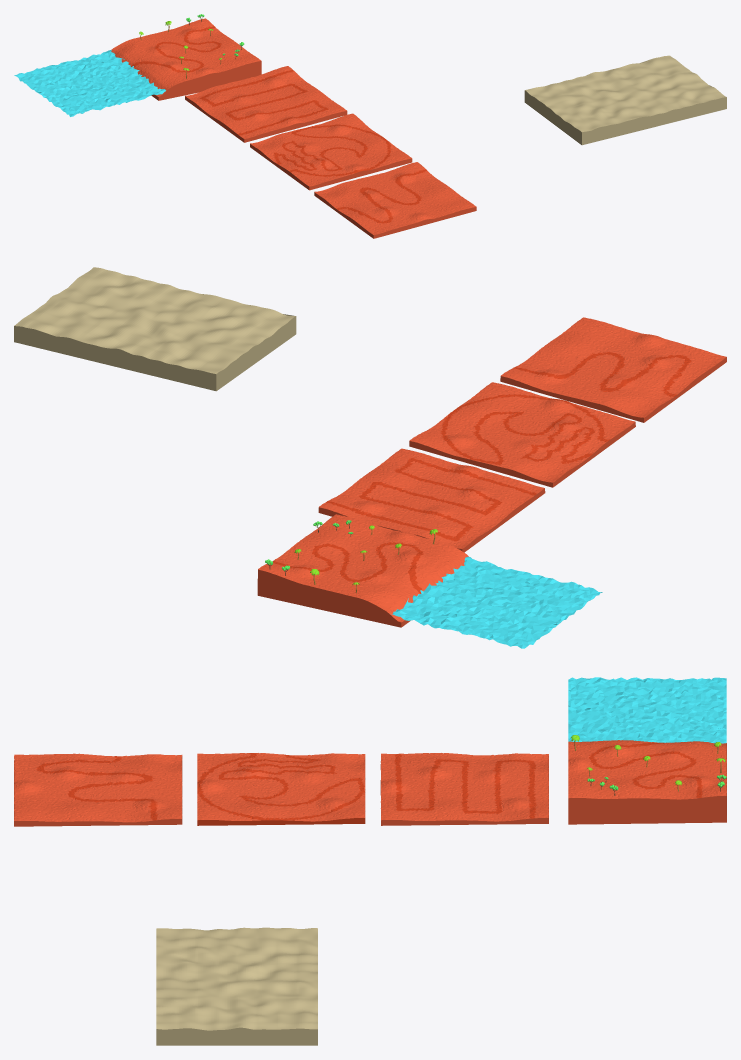
The model's file is Beach_Path_Sea_australia 1.fbx.
The picture shows the model from 3 angles, top to bottom: view 1: azimuth 30°, elevation 25°; view 2: azimuth 150°, elevation 25°; view 3: azimuth 270°, elevation 25°; orthographic projection. The views are drawn at different scales.
Parts seen in each view (by area): view 1: sand, Cube, Cube.016, Cube.015, Cube.014, water; view 2: sand, Cube, Cube.016, Cube.015, Cube.014, water; view 3: sand, Cube, Cube.015, Cube.016, Cube.014, water.
Boxes of the visible parts, x1,y1,x2,y2 form: sand: [524, 55, 726, 145]; Cube: [111, 18, 261, 100]; Cube.016: [314, 162, 476, 238]; Cube.015: [250, 113, 412, 190]; Cube.014: [185, 66, 347, 142]; water: [14, 50, 165, 116]; sand: [14, 267, 296, 391]; Cube: [257, 514, 468, 627]; Cube.016: [500, 317, 726, 422]; Cube.015: [409, 382, 635, 487]; Cube.014: [318, 448, 545, 552]; water: [392, 556, 602, 648]; sand: [156, 927, 317, 1045]; Cube: [568, 740, 726, 824]; Cube.015: [197, 753, 365, 825]; Cube.016: [14, 753, 182, 826]; Cube.014: [380, 753, 548, 825]; water: [568, 677, 726, 743].
Size of the model in its own units: 36872 by 2046 by 31549.
